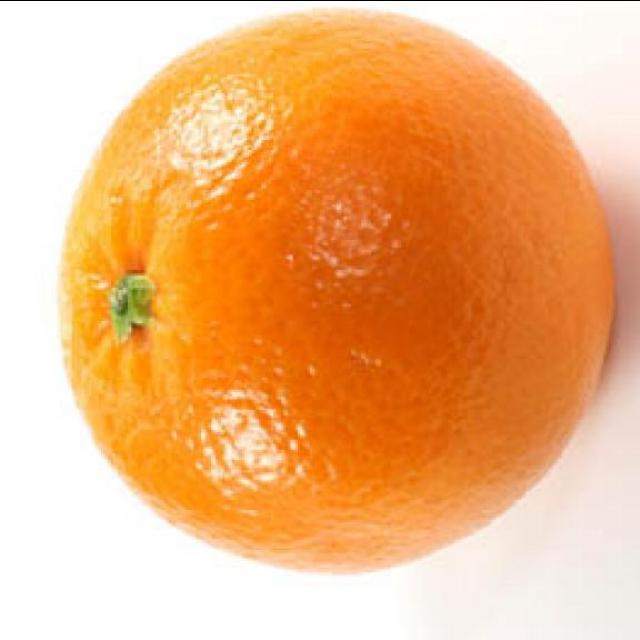orange: (59, 0, 624, 590)
